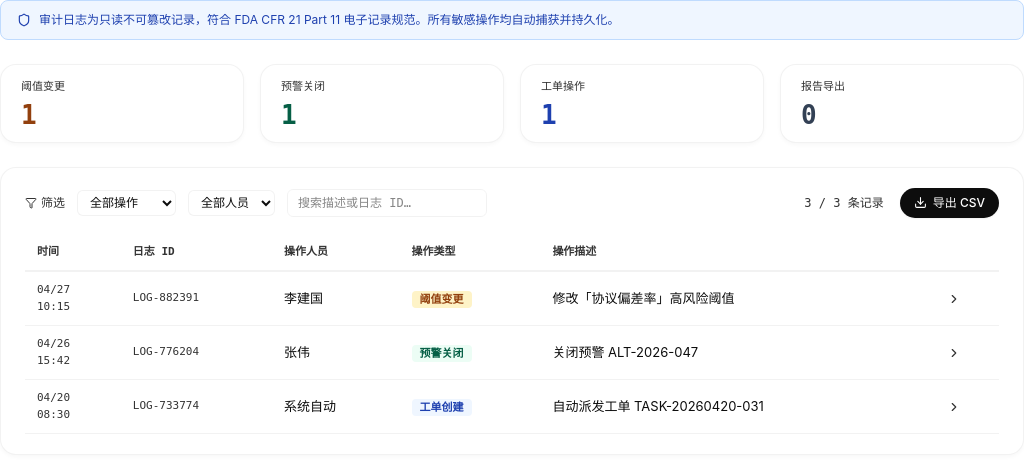
Scenario: AuditTrail › filters by action type
Select "阈值变更" in the dropdown named "操作类型" at (126, 202), box [77, 190, 176, 216]
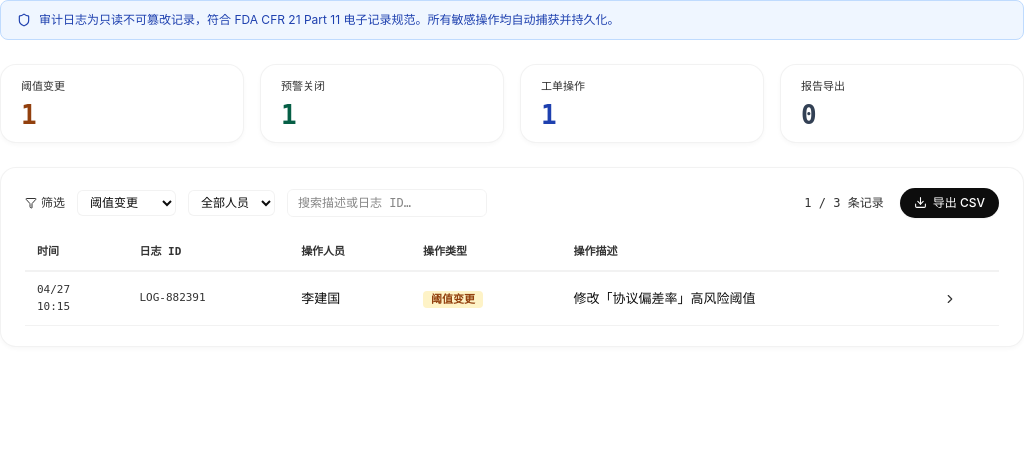
Expected: the text "李建国" is shown, [289, 271, 411, 326]
Now the text "1 / 3 条记录" is shown, box [804, 194, 884, 212]
Now the text "张伟" is gone
